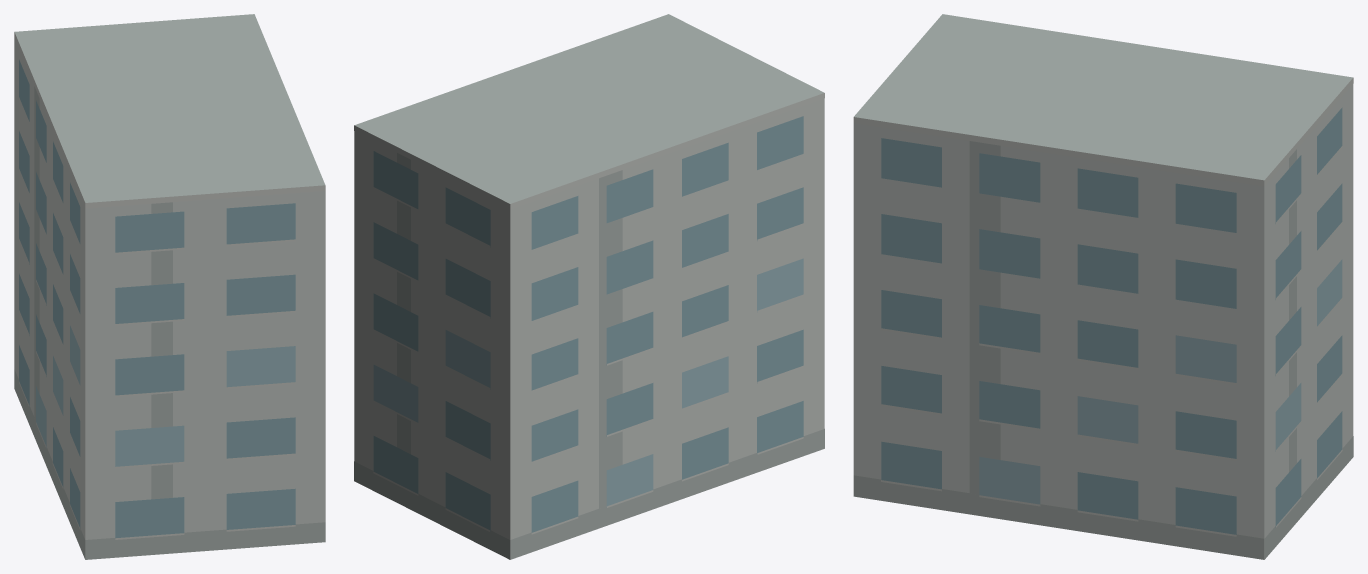
Rendered from residential-431fe469-97d9-4894-bfda-87fbc64c412d.glb.
The picture shows the model from 3 angles, left to right: view 1: azimuth 30°, elevation 25°; view 2: azimuth 150°, elevation 25°; view 3: azimuth 270°, elevation 25°; orthographic projection. The views are drawn at different scales.
Visible parts, largest first — view 1: residential-431fe469-97d9-4894-bfda-87fbc64c412d.tmp; view 2: residential-431fe469-97d9-4894-bfda-87fbc64c412d.tmp; view 3: residential-431fe469-97d9-4894-bfda-87fbc64c412d.tmp.
Part boxes in pixels (<box>): residential-431fe469-97d9-4894-bfda-87fbc64c412d.tmp: <box>14,14,325,559</box>; residential-431fe469-97d9-4894-bfda-87fbc64c412d.tmp: <box>354,14,824,559</box>; residential-431fe469-97d9-4894-bfda-87fbc64c412d.tmp: <box>853,14,1353,559</box>.
Size of the model in its own units: 14.34 by 15.25 by 18.21.
